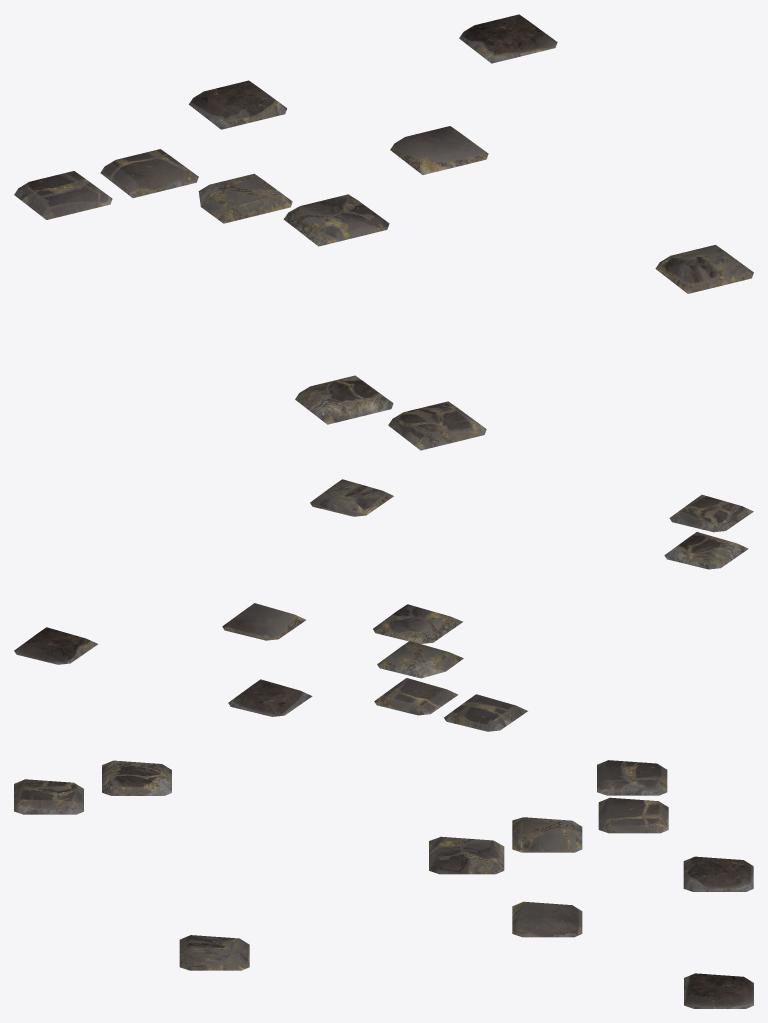
Rendered from SM_FloorStones01.FBX.
3 views of the same model, one above another, from view 1: azimuth 30°, elevation 25°; view 2: azimuth 150°, elevation 25°; view 3: azimuth 270°, elevation 25° (orthographic). The views are drawn at different scales.
Visible parts, largest first — view 1: SM_FloorStones01; view 2: SM_FloorStones01; view 3: SM_FloorStones01.
Part boxes in pixels (box(x1,y1,x2,y2)): SM_FloorStones01: box(14, 14, 753, 450); SM_FloorStones01: box(14, 479, 753, 731); SM_FloorStones01: box(14, 760, 753, 1008).
Bounding box in the file's own units: 414 × 530 × 6.6.
